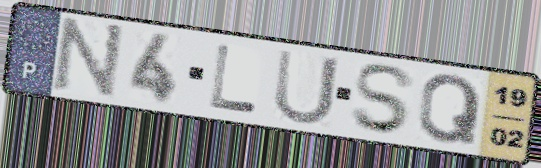4: (126, 31, 180, 106)
L: (207, 42, 261, 116)
N: (49, 16, 129, 103)
Q: (417, 73, 485, 148)
S: (348, 62, 419, 136)
U: (271, 46, 342, 127)
